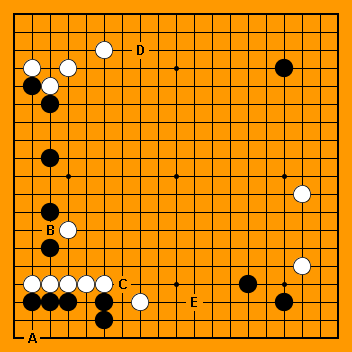black: (22, 292, 38, 308), (22, 76, 38, 92), (40, 202, 56, 218), (40, 238, 56, 254), (40, 292, 56, 308), (40, 94, 56, 110), (40, 148, 56, 164), (58, 292, 74, 308), (94, 292, 110, 308), (94, 310, 110, 326), (238, 274, 254, 290), (274, 292, 290, 308), (274, 58, 290, 74)
white: (22, 274, 38, 290), (22, 58, 38, 74), (40, 274, 56, 290), (40, 76, 56, 92), (58, 220, 74, 236), (58, 274, 74, 290), (58, 58, 74, 74), (76, 274, 92, 290), (94, 274, 110, 290), (94, 40, 110, 56), (130, 292, 146, 308), (292, 184, 308, 200), (292, 256, 308, 272)
